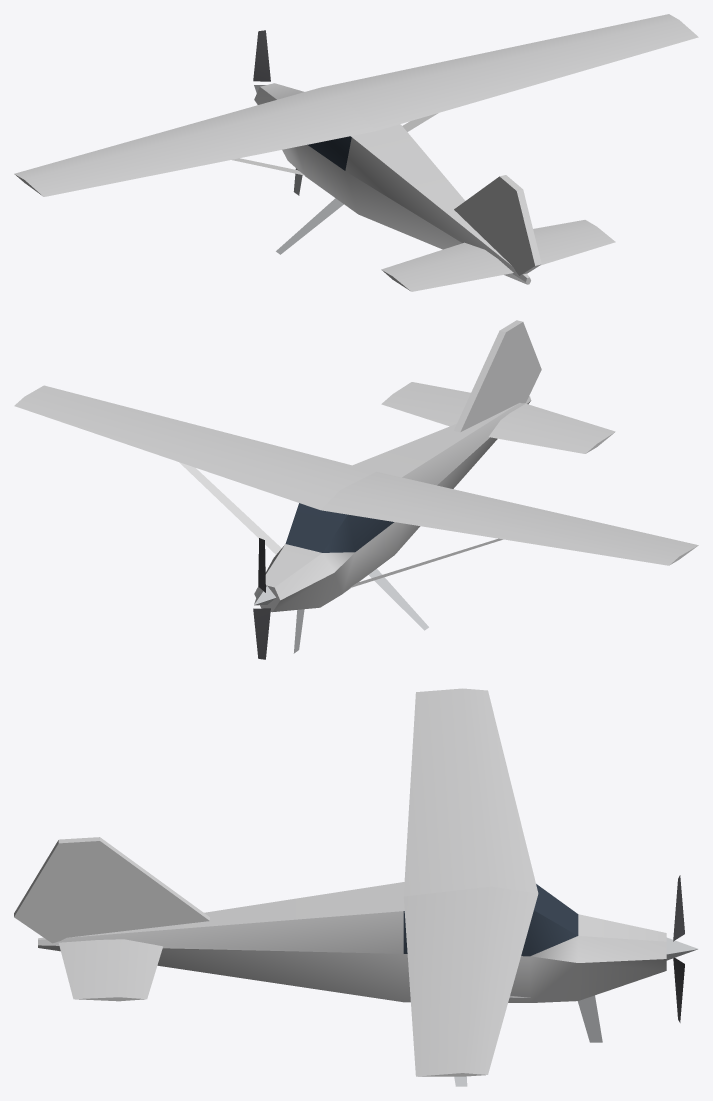
File: Cessna_172_LOD0.glb
3 renders of one model, top to bottom at view 1: azimuth 30°, elevation 25°; view 2: azimuth 150°, elevation 25°; view 3: azimuth 270°, elevation 25°, orthographic. The views are drawn at different scales.
Visible parts, largest first — view 1: Cessna_172_Body, Propeller; view 2: Cessna_172_Body, Propeller; view 3: Cessna_172_Body, Propeller.
Boxes of the visible parts, <box> form: Cessna_172_Body: <box>14,14,698,291</box>; Propeller: <box>253,30,270,81</box>; Cessna_172_Body: <box>14,320,698,653</box>; Propeller: <box>253,538,270,659</box>; Cessna_172_Body: <box>14,688,698,1086</box>; Propeller: <box>673,875,684,1022</box>.
Bounding box in the file's own units: 11 × 2.72 × 8.28.
